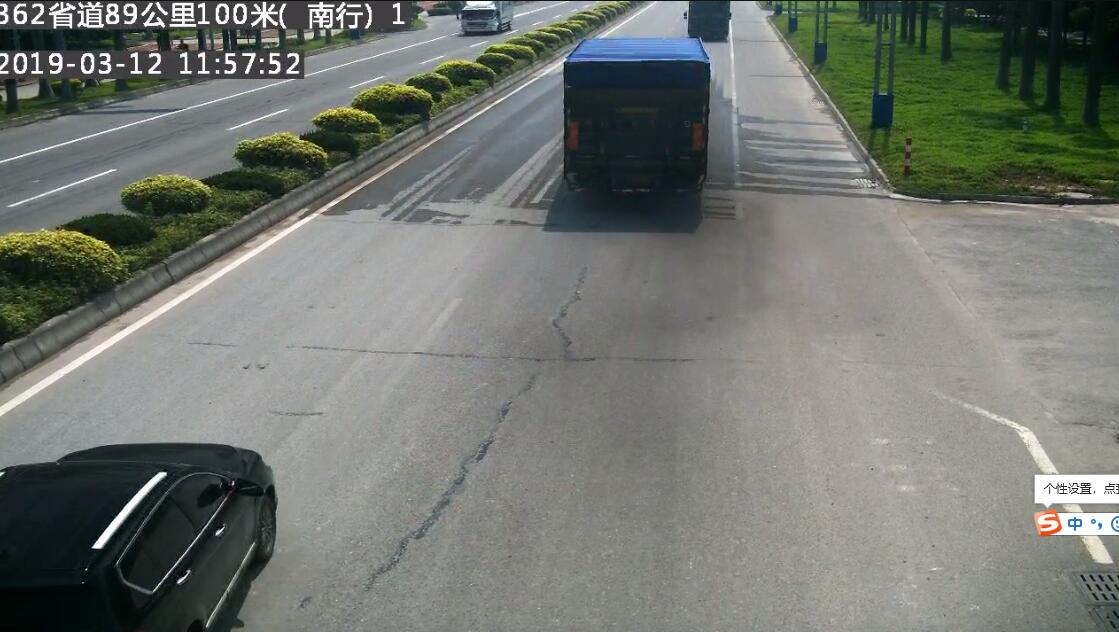yanwu: (611, 168, 777, 250)
